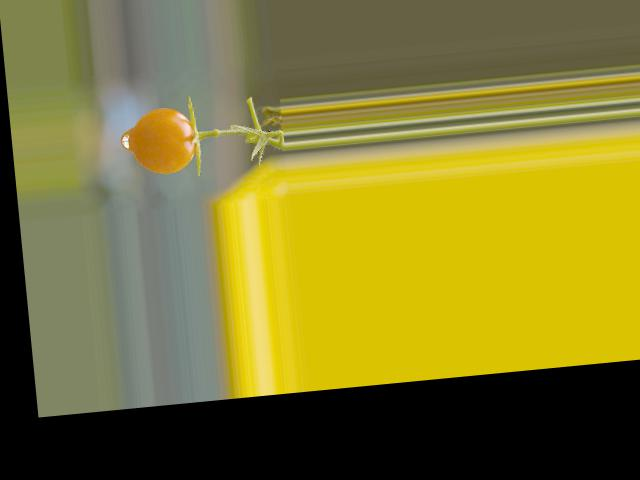tomato: (128, 104, 198, 176)
